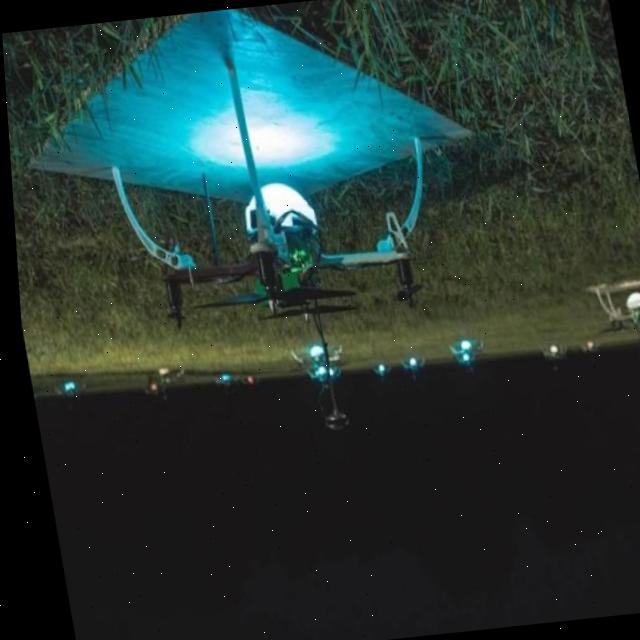drones: (87, 0, 493, 391), (576, 251, 640, 348)
